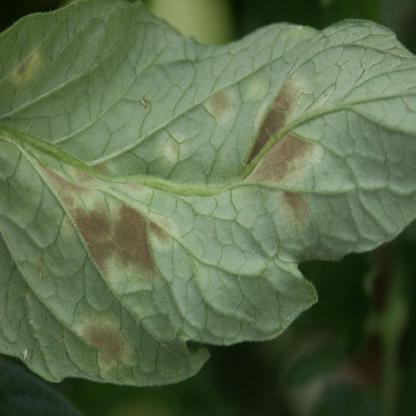Tomato mold leaf: (1, 7, 414, 399)
